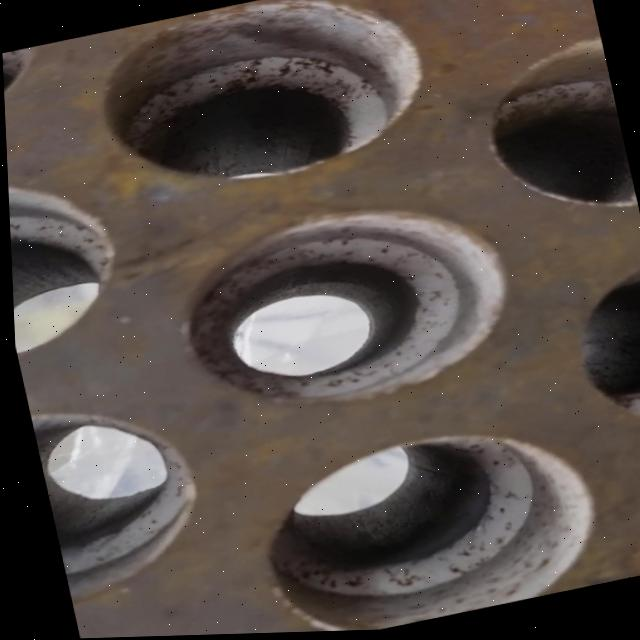Hole: (158, 182, 525, 432), (240, 408, 609, 635), (82, 0, 438, 207), (25, 382, 211, 599), (468, 38, 637, 239), (5, 154, 131, 359)
